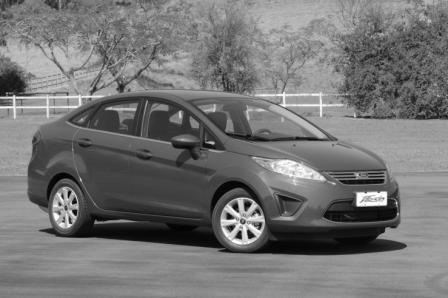car: (27, 88, 406, 256)
